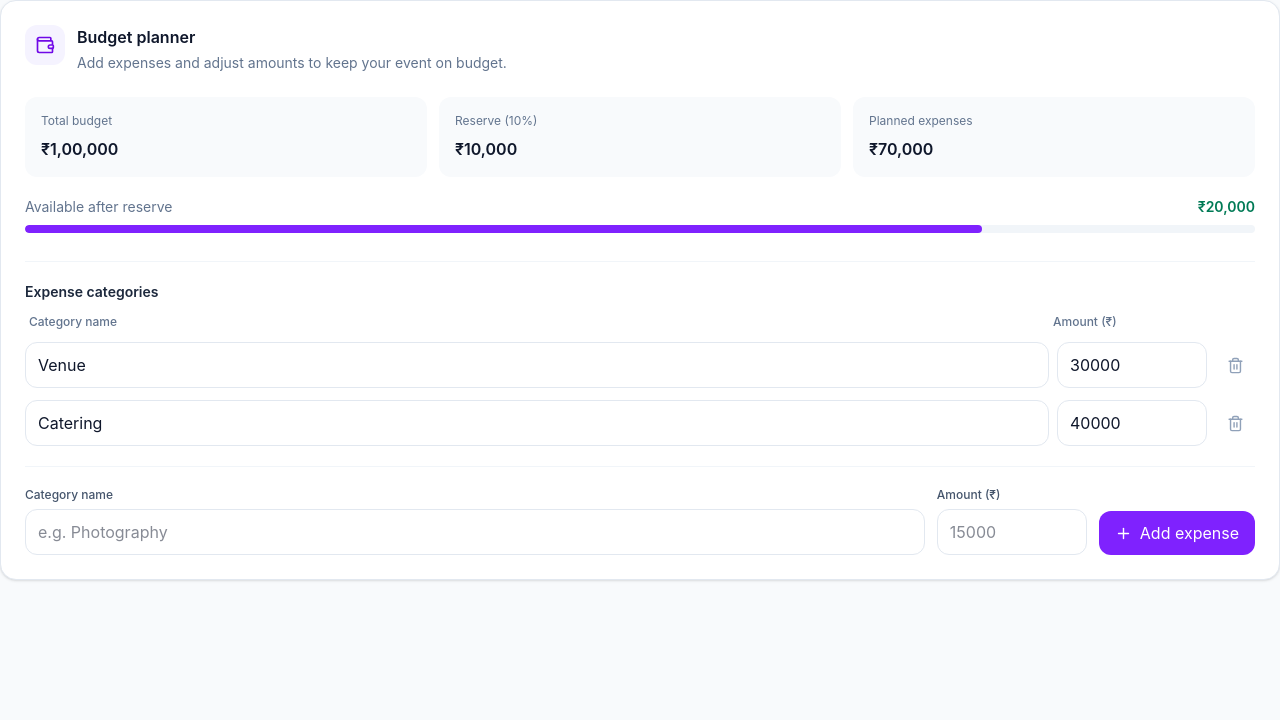
BudgetPanel › adds an expense and clears the form
The width and height of the screenshot is (1280, 720).
Type "Photography" into the field with placeholder "e.g. Photography" at (475, 532), box [25,509,925,555]
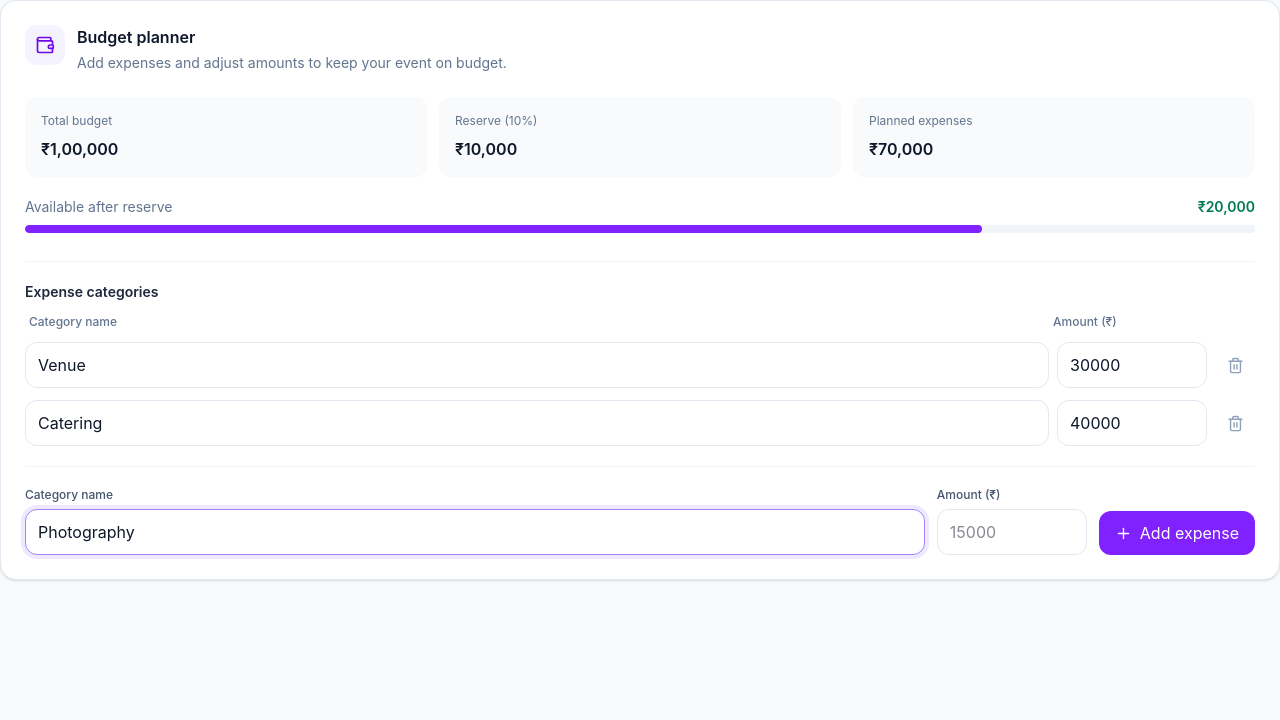
Type "5000" into the number field with placeholder "15000" at (1012, 532), box [937,509,1087,555]
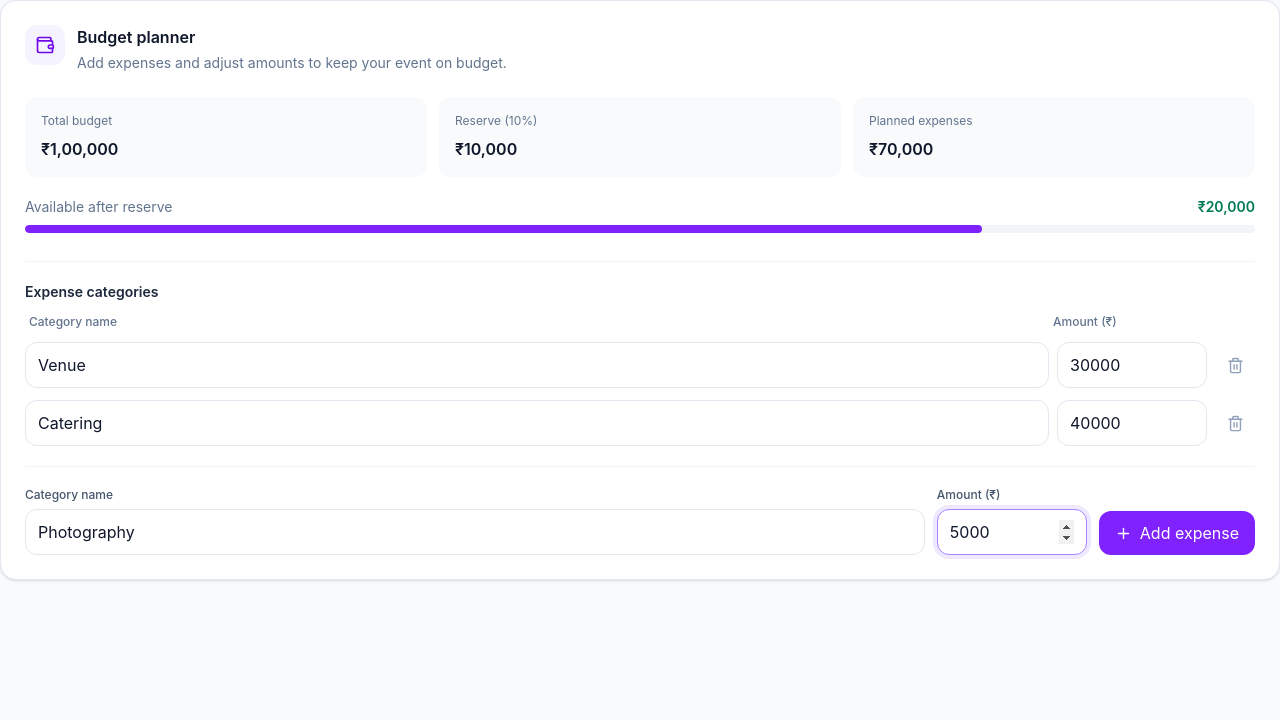
Click the button "Add expense" at (1177, 533), box [1099,511,1255,555]
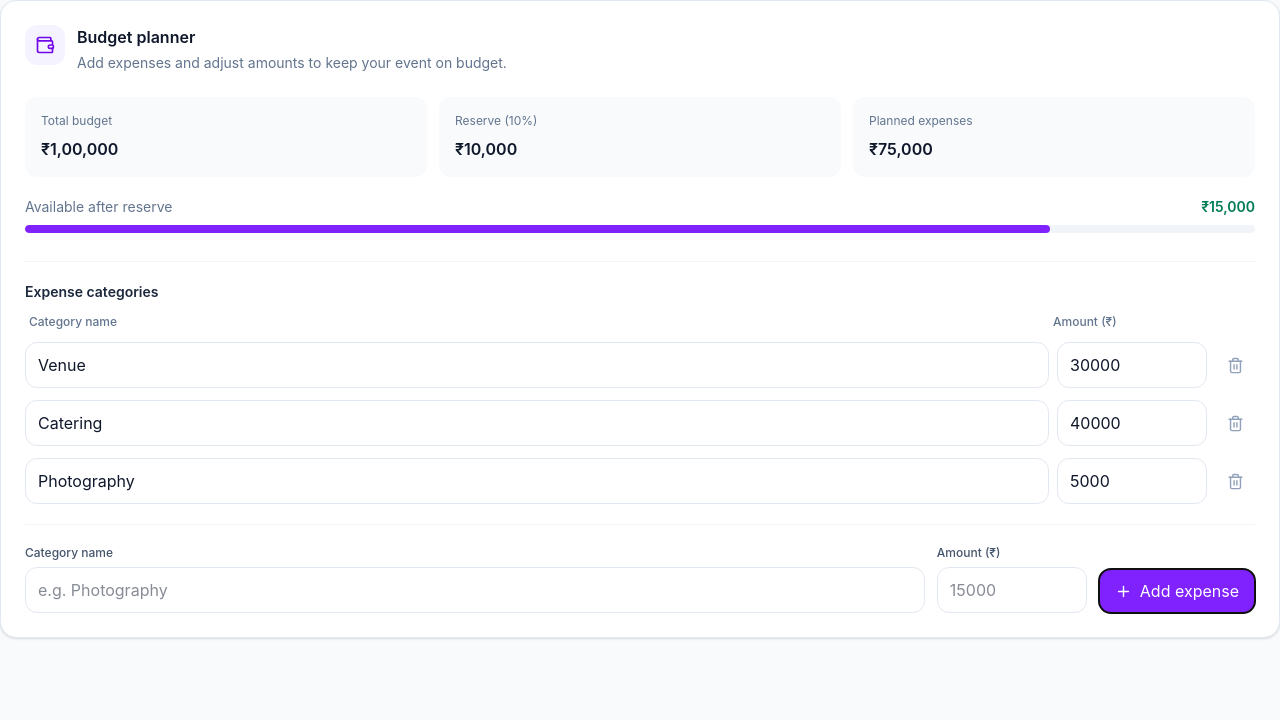
Result: the number field named "Amount for Photography" holds "5000" at [1057,458,1207,504]
Result: the field with placeholder "e.g. Photography" is empty at [25,567,925,613]
